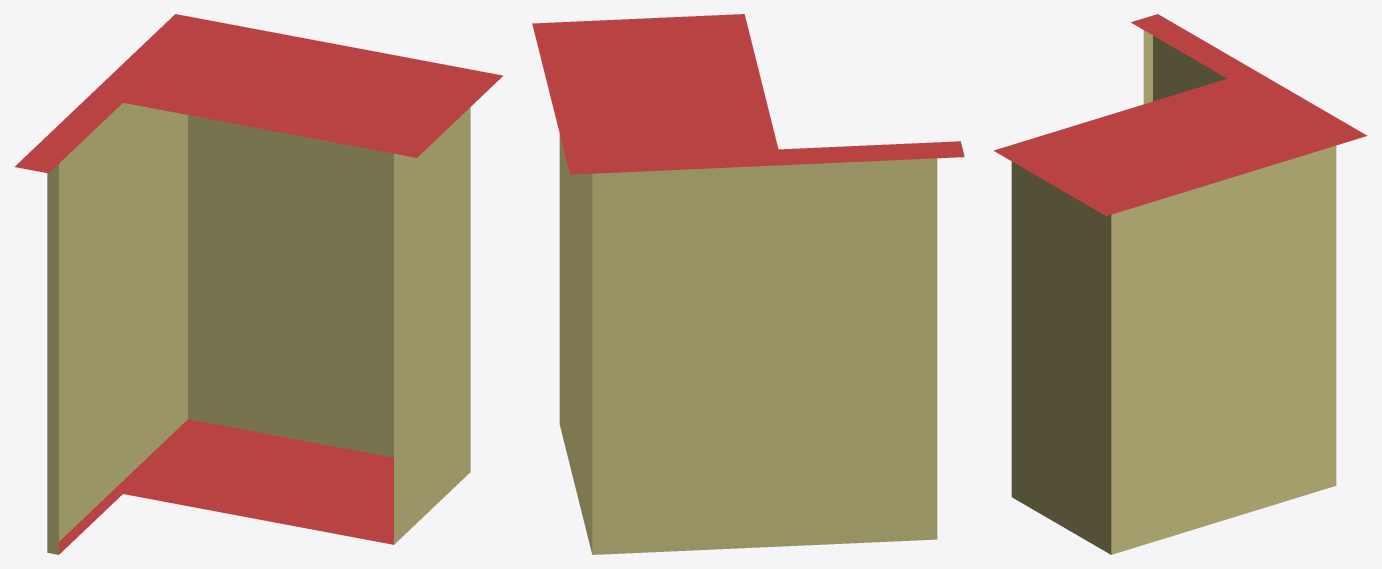
3 views of the same model, side by side, from view 1: azimuth 30°, elevation 25°; view 2: azimuth 150°, elevation 25°; view 3: azimuth 270°, elevation 25° (orthographic). The views are drawn at different scales.
Bounding box in the file's own units: 10.62 × 8.3 × 8.62.
